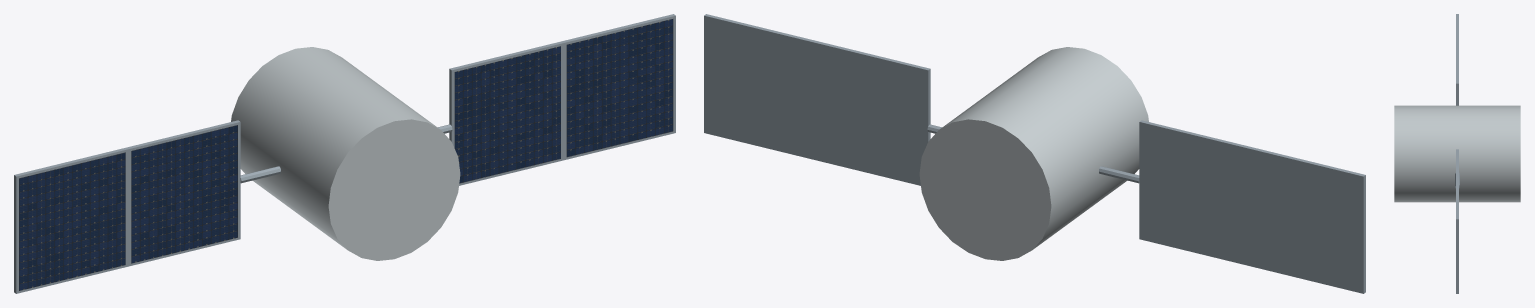
The model's file is ref-arrow-63254.glb.
3 views of the same model, side by side, from view 1: azimuth 30°, elevation 25°; view 2: azimuth 150°, elevation 25°; view 3: azimuth 270°, elevation 25° (orthographic). The views are drawn at different scales.
Visible parts, largest first — view 1: Photovoltaic laminates (×4), Spacecraft body, Array frame (×4); view 2: Array frame (×4), Spacecraft body; view 3: Spacecraft body, Array frame (×4).
Boxes of the visible parts, box(x1,y1,x2,y2) form: Photovoltaic laminates (×4): box(19, 19, 673, 290); Spacecraft body: box(231, 47, 460, 260); Array frame (×4): box(14, 14, 675, 293); Array frame (×4): box(704, 14, 1365, 293); Spacecraft body: box(919, 47, 1148, 260); Spacecraft body: box(1394, 105, 1520, 202); Array frame (×4): box(1456, 14, 1458, 293).
Bounding box in the file's own units: 5 × 1 × 1.3.
3 materials, 1 textured.
